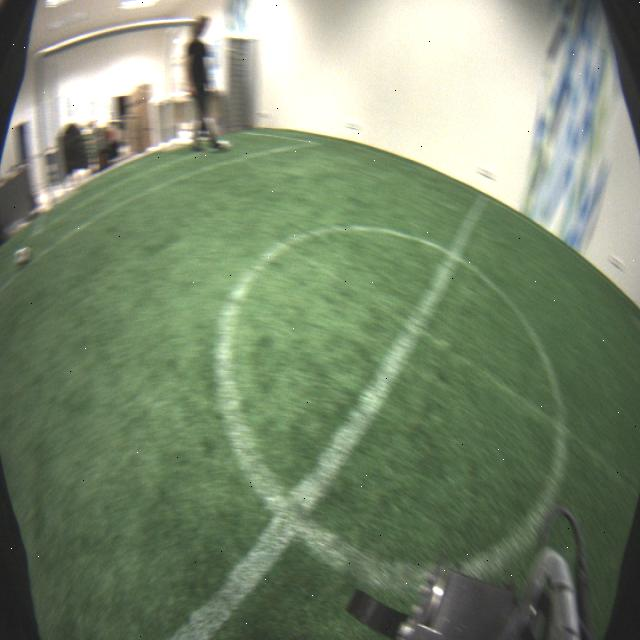ball: (13, 246, 35, 270)
